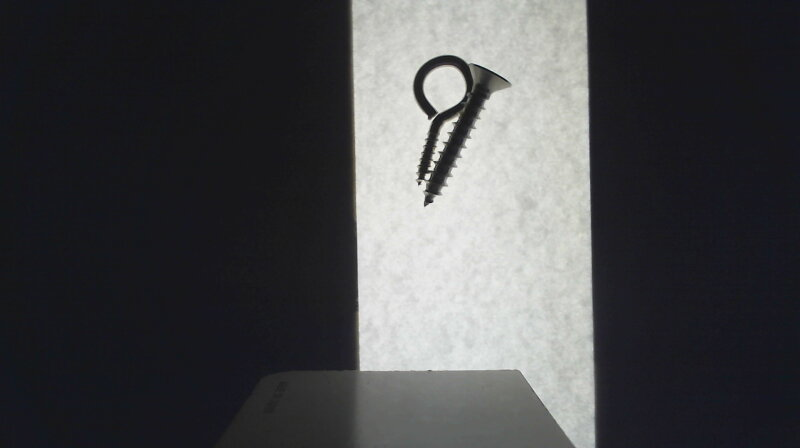O001: (411, 52, 473, 186)
S001: (420, 60, 510, 206)
